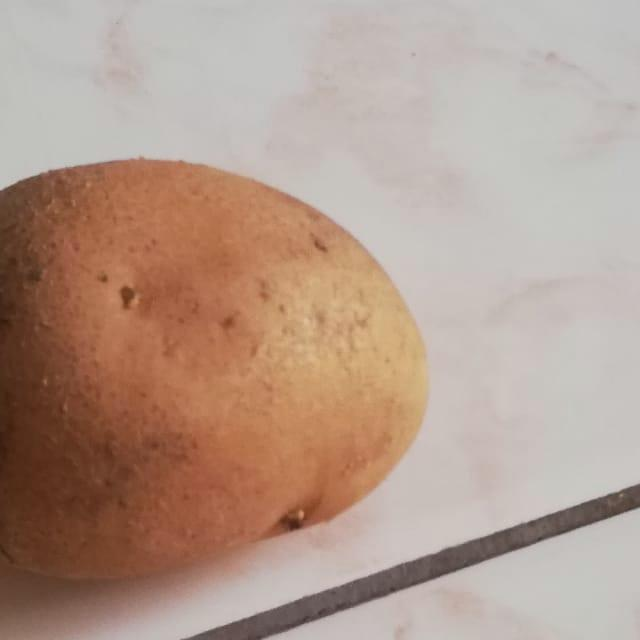potato: (0, 126, 445, 609)
